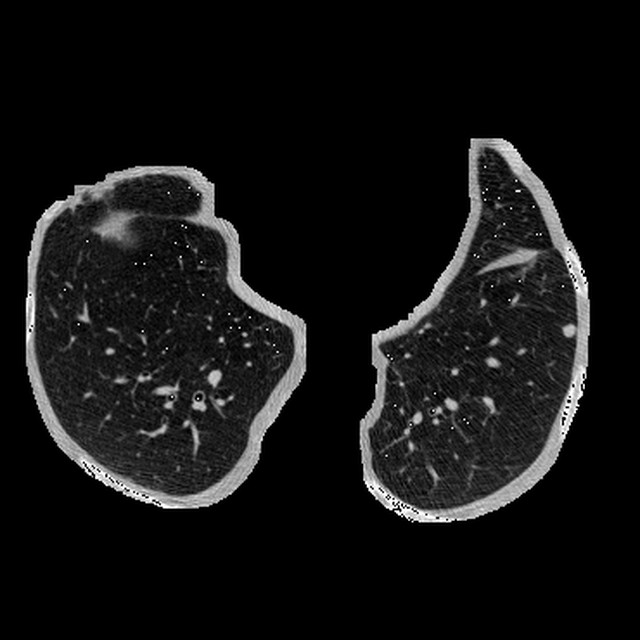PN: (562, 322, 576, 336)
